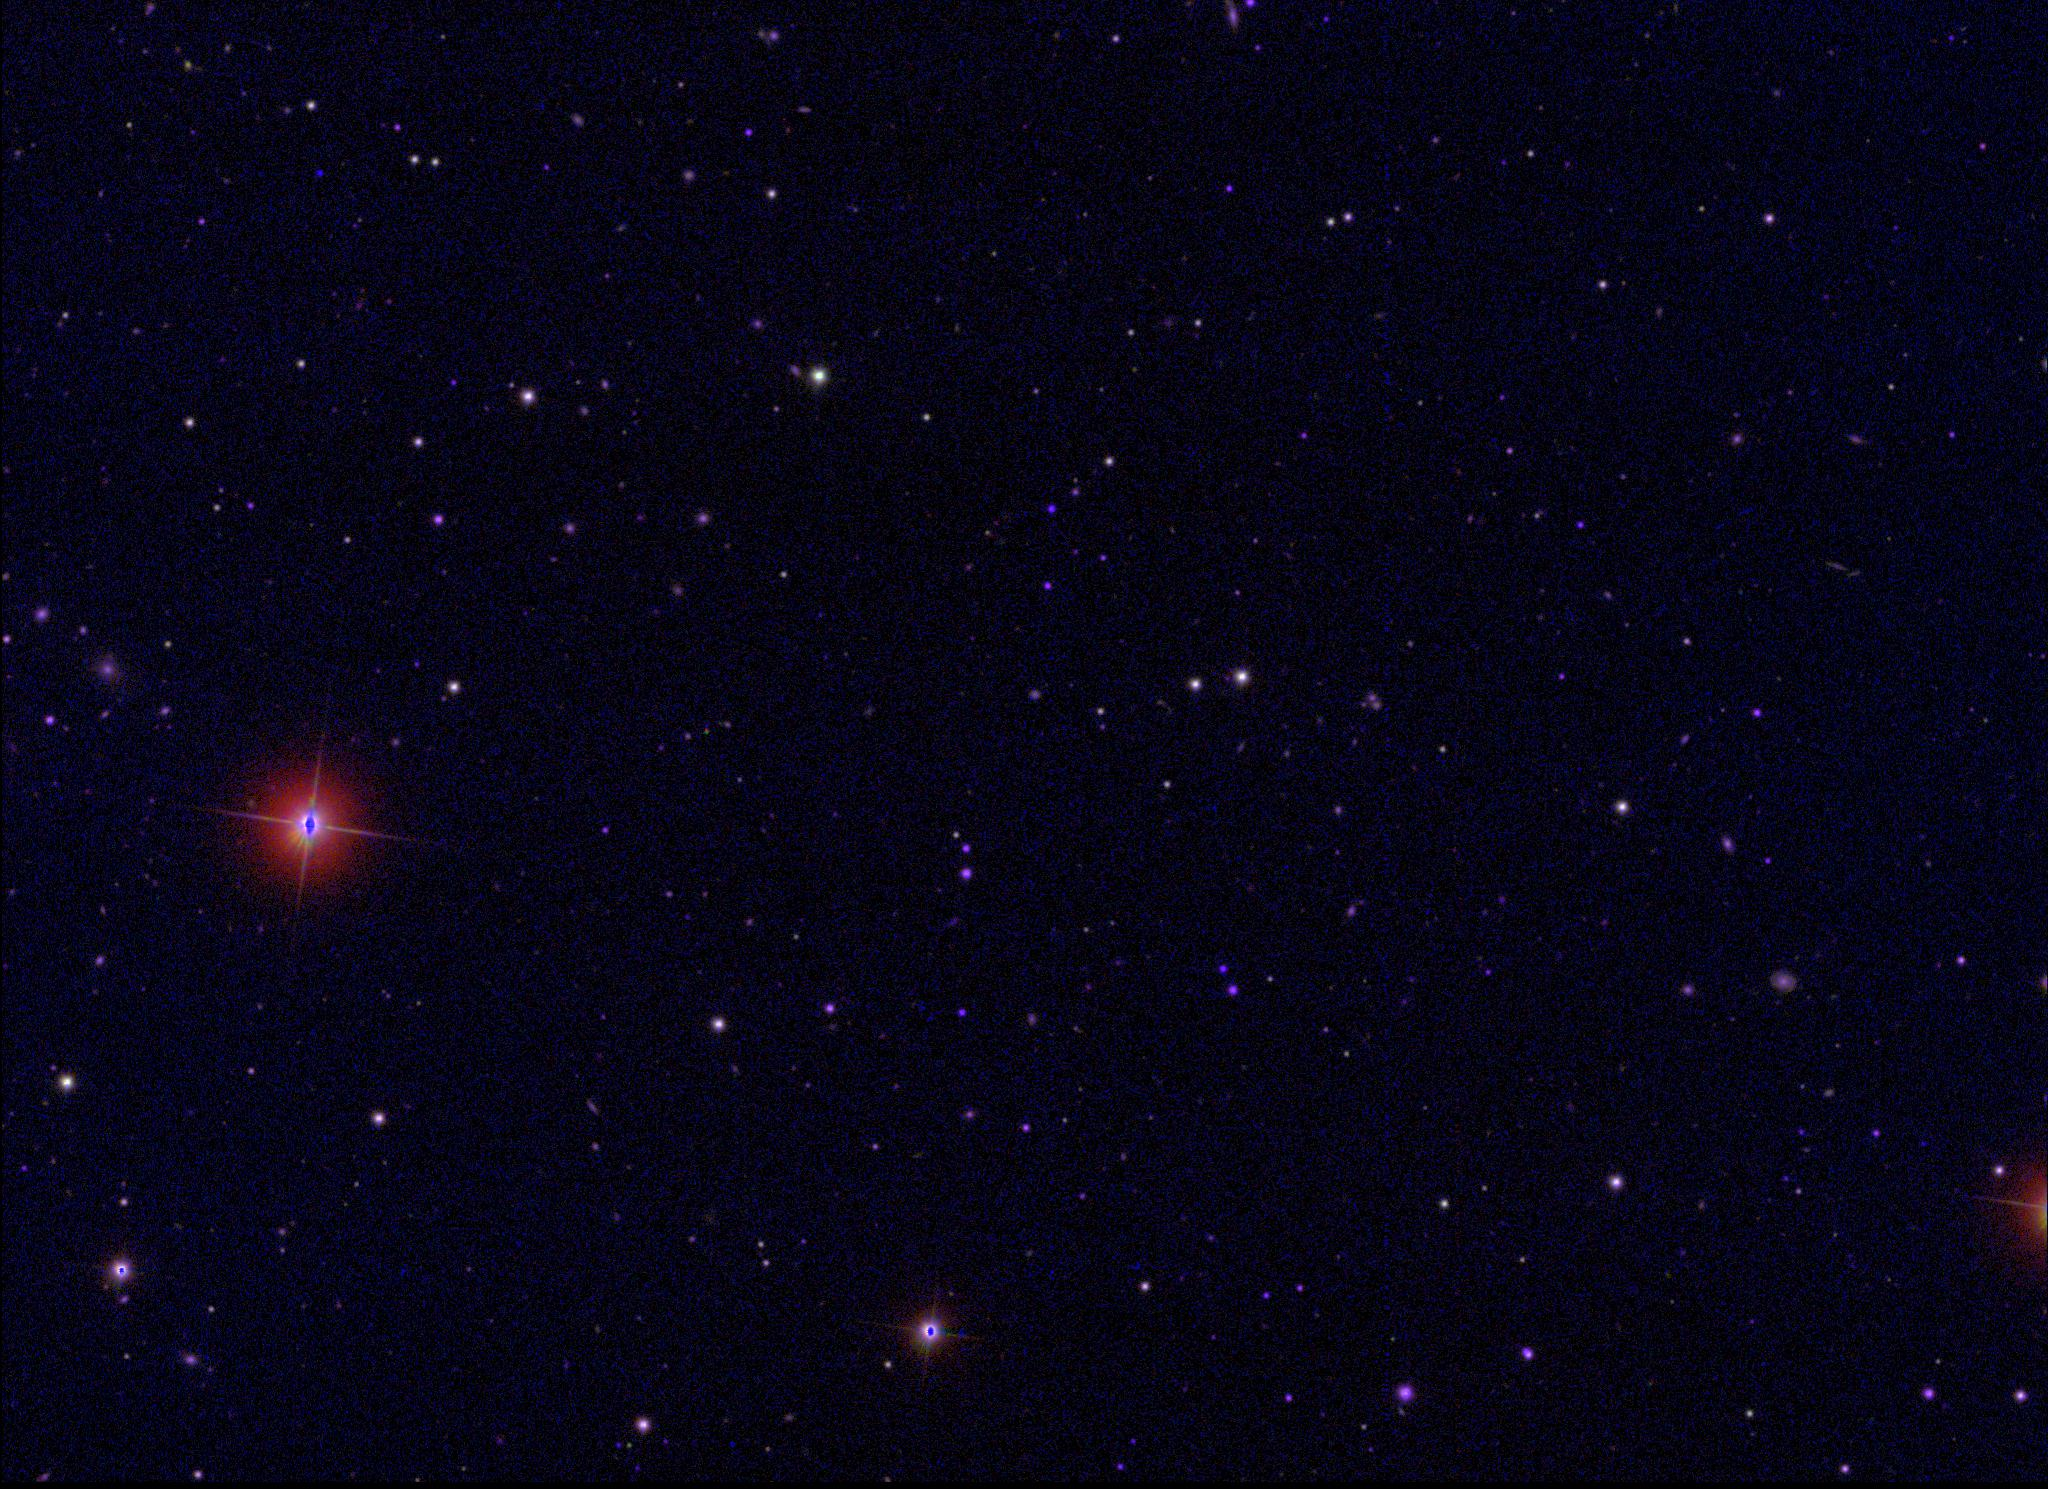L: (313, 165, 328, 180)
